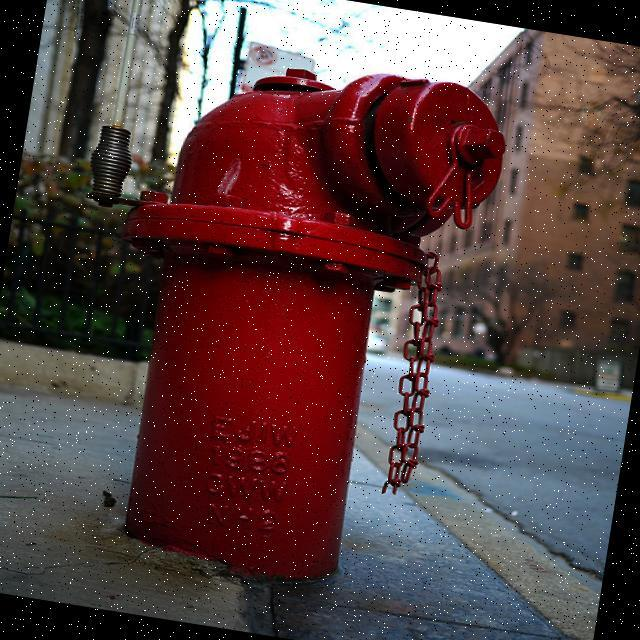fire_hydrant: (28, 29, 512, 606)
